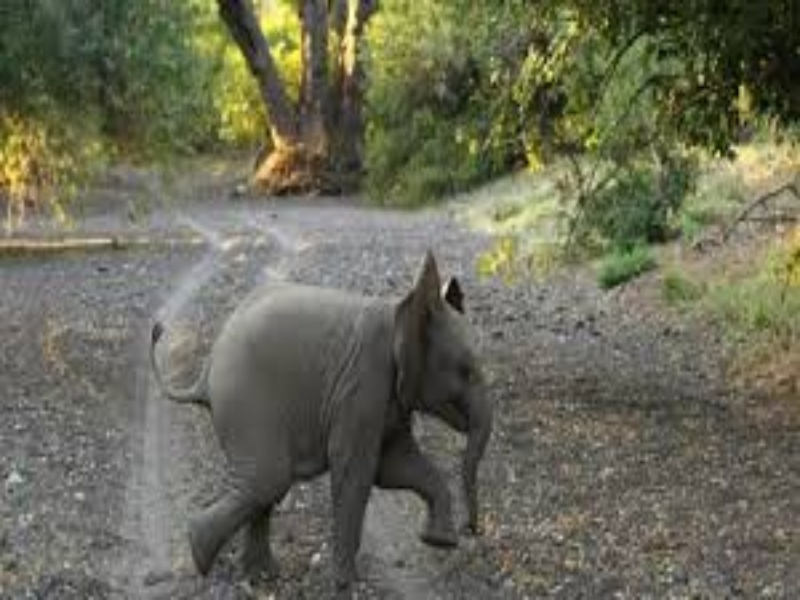elephant: (119, 224, 559, 587), (131, 242, 559, 593)
